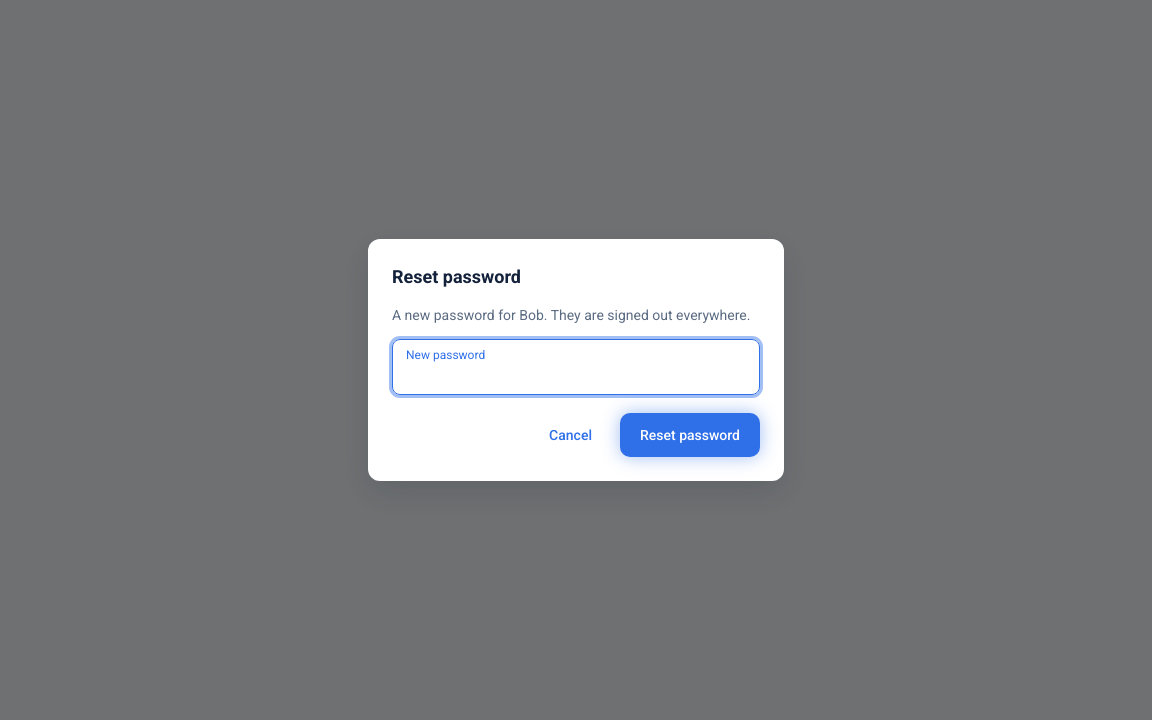
Test: ResetPasswordDialog › keeps the dialog open with the server's reason when the reset fails
Type "correct horse battery" into the password field labelled "New password".
click(576, 367); type("correct horse battery")  # box [392,339,760,395]
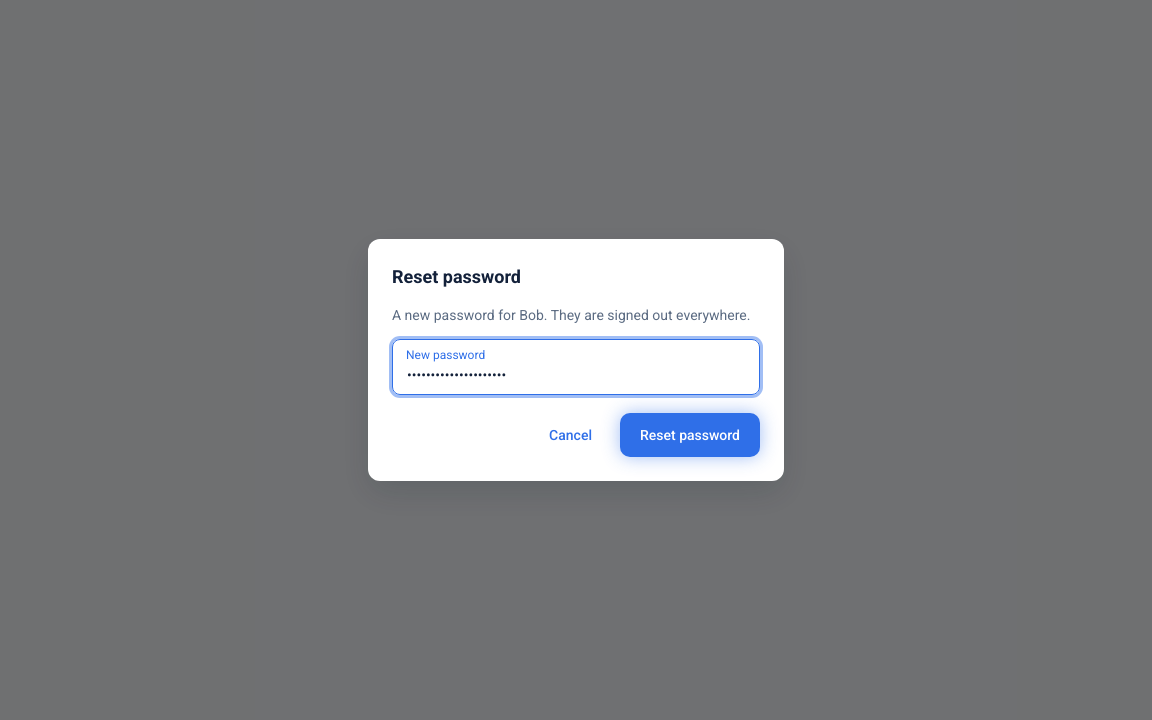
Click the button "Reset password".
click(690, 435)  # box [620,413,760,457]
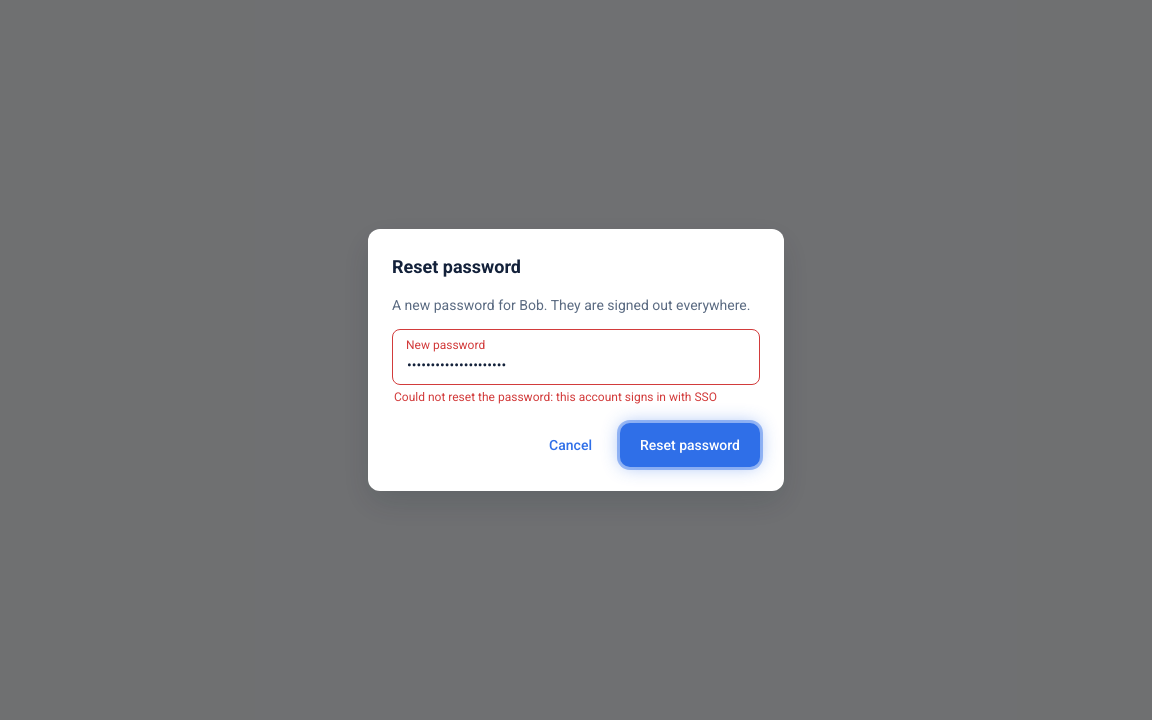
Check: the dialog "Reset password" is shown, box [368,229,784,491]
Check: the text "Could not reset the password: this account signs in with SSO" is shown, box [392,389,760,405]
